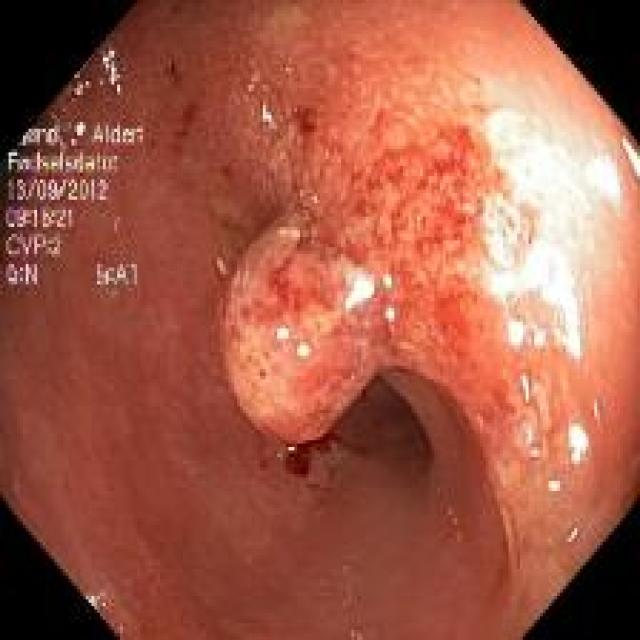Polyps: (221, 219, 385, 445)
